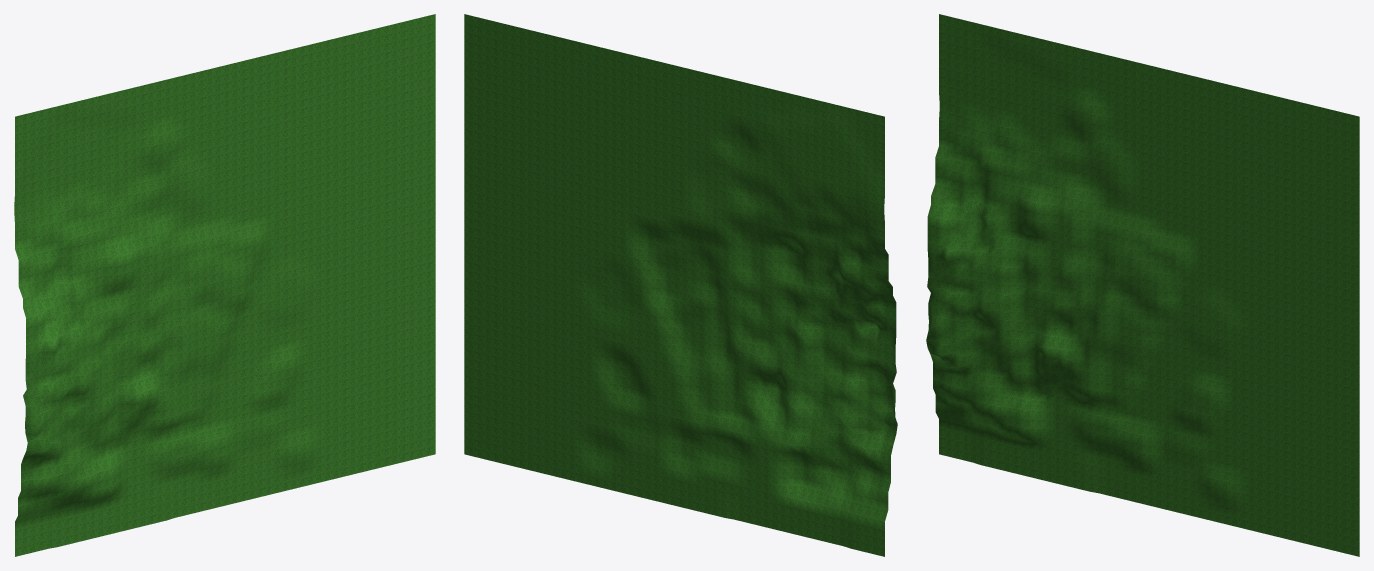
The model's file is floor_new_test_02.obj.
3 renders of one model, left to right at view 1: azimuth 30°, elevation 25°; view 2: azimuth 150°, elevation 25°; view 3: azimuth 330°, elevation 25°, orthographic.
Parts seen in each view (by area): view 1: pPlane1; view 2: pPlane1; view 3: pPlane1.
Boxes of the visible parts, x1,y1,x2,y2 form: pPlane1: [14, 14, 435, 556]; pPlane1: [464, 14, 897, 556]; pPlane1: [926, 14, 1359, 556].
Size of the model in its own units: 29.24 by 29.24 by 2.14.
